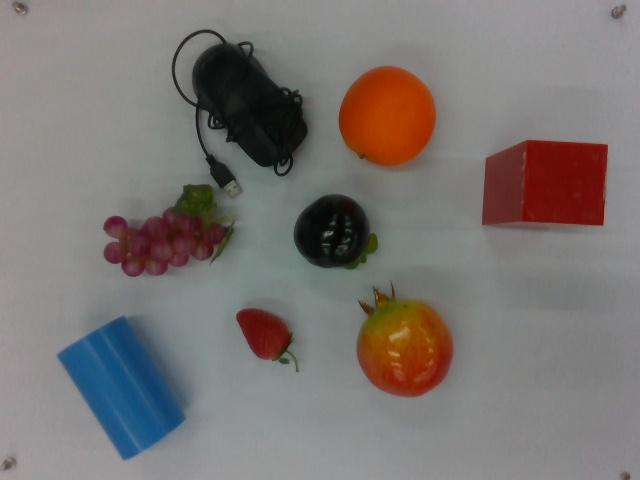cuboid: (480, 137, 611, 235)
cylinder: (53, 309, 192, 464)
grape: (100, 177, 233, 287)
mangosteen: (292, 195, 381, 272)
mouse: (167, 23, 314, 197)
orange: (338, 61, 435, 167)
pomegranate: (354, 283, 454, 395)
strawberry: (232, 301, 304, 376)
